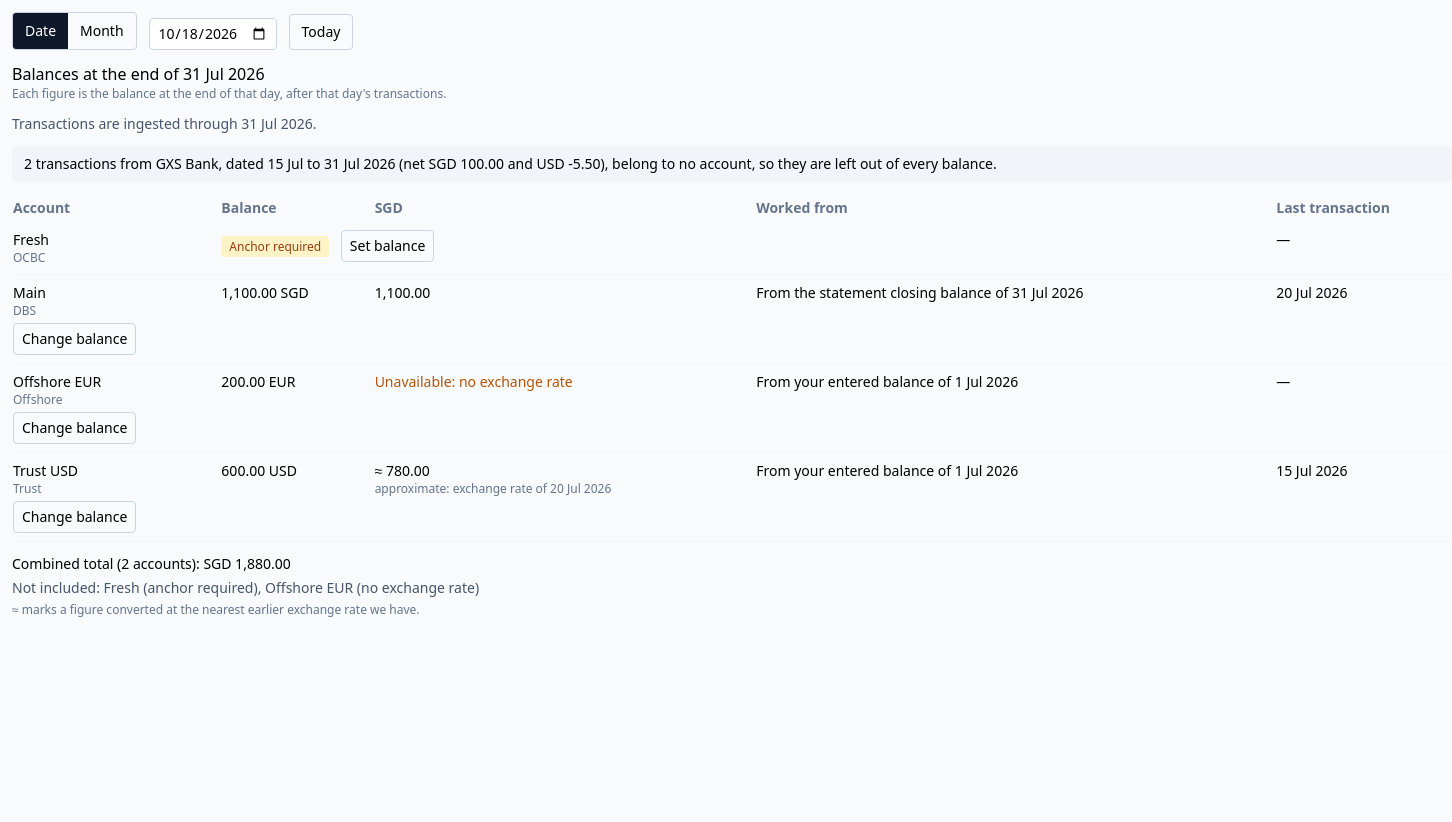
it: BalanceLookup › by month › goes back to a date lookup on the day the month result resolved to
Step 1. Click the button with test id "lookup-mode-month" → (102, 31), box [68,13,136,49]
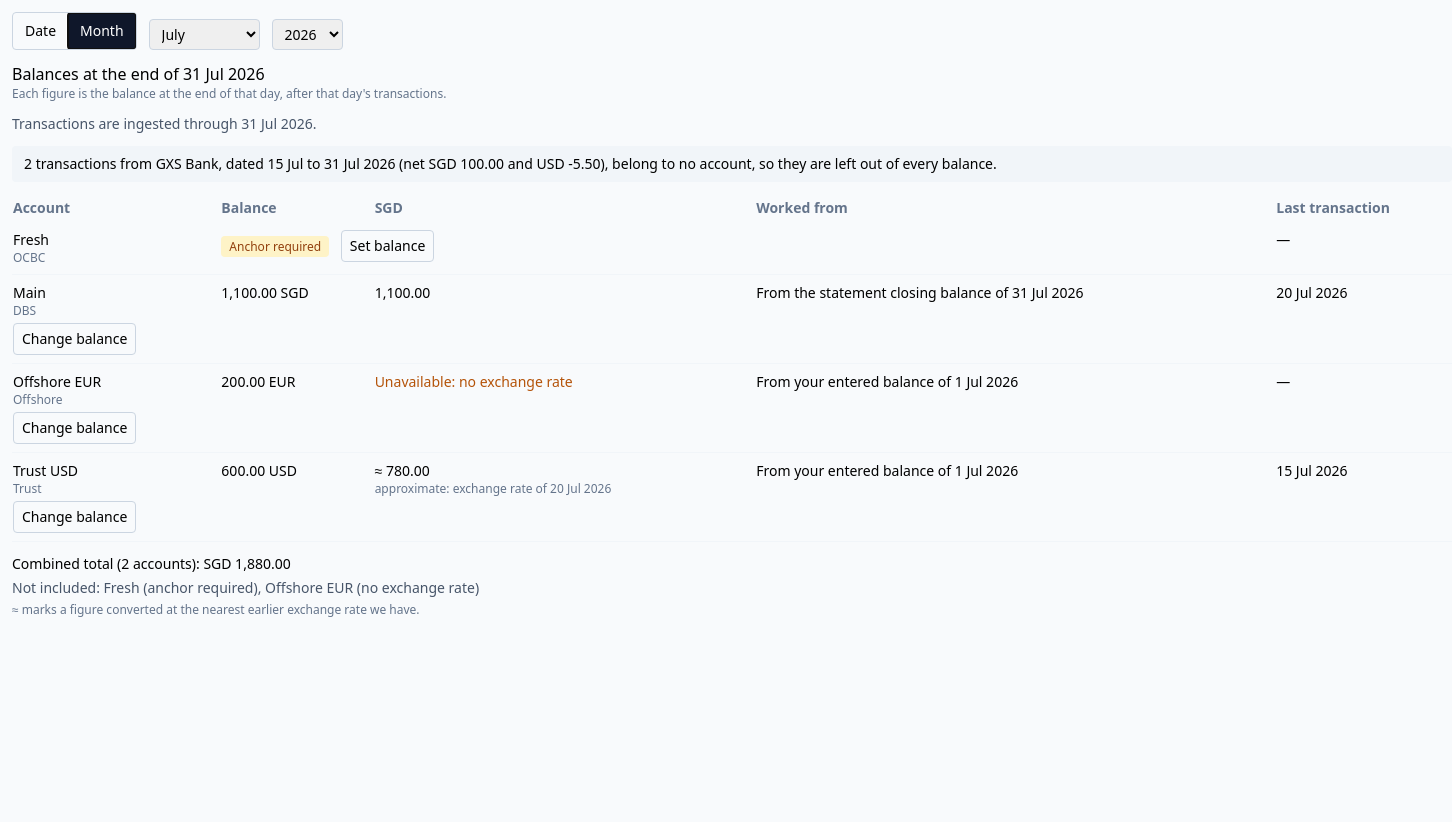
Step 2. Click the button with test id "lookup-mode-date" → (40, 31), box [13,13,68,49]
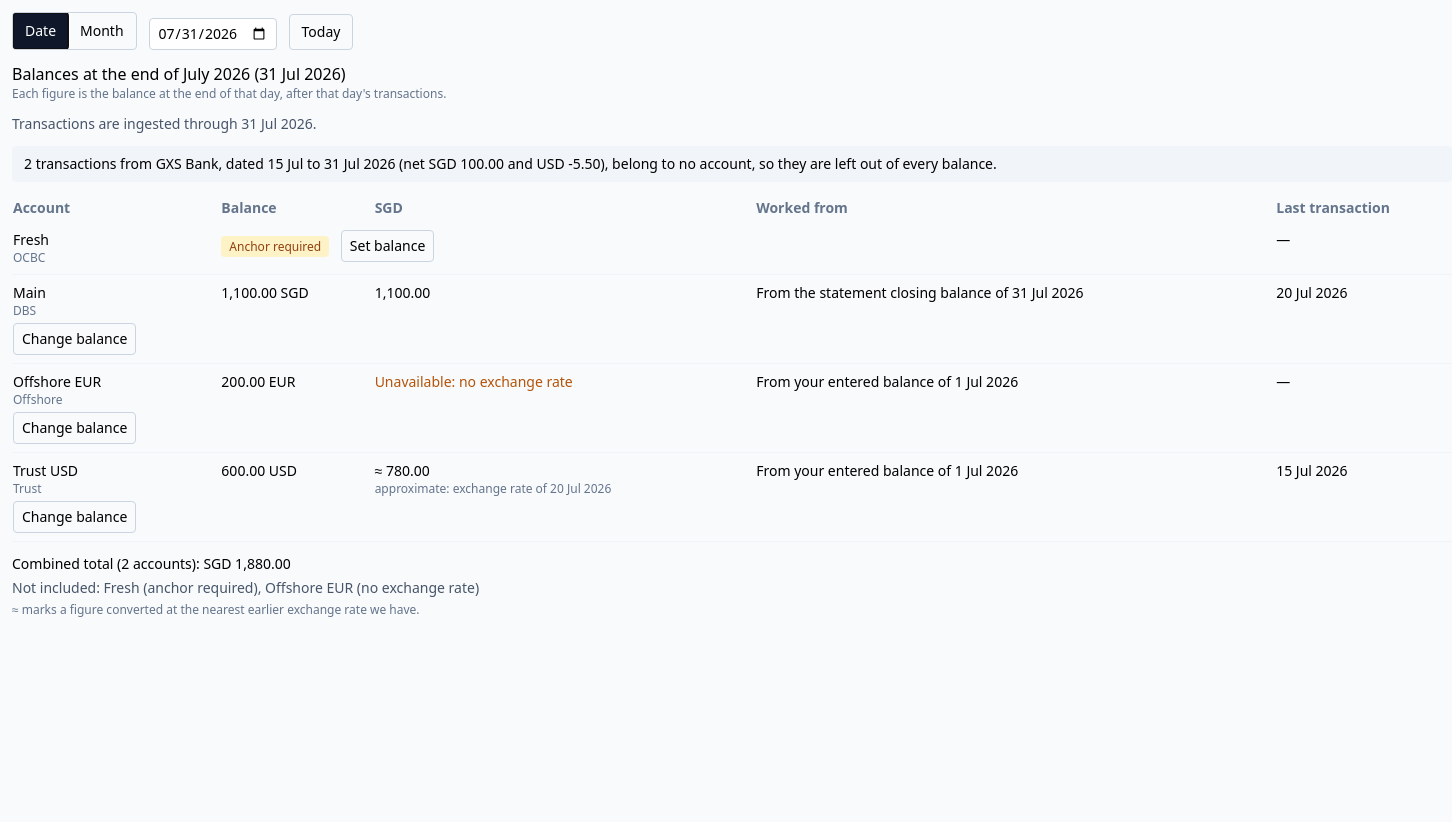
Result: the date field with test id "lookup-date-input" holds "2026-07-31" at [149,18,277,50]
